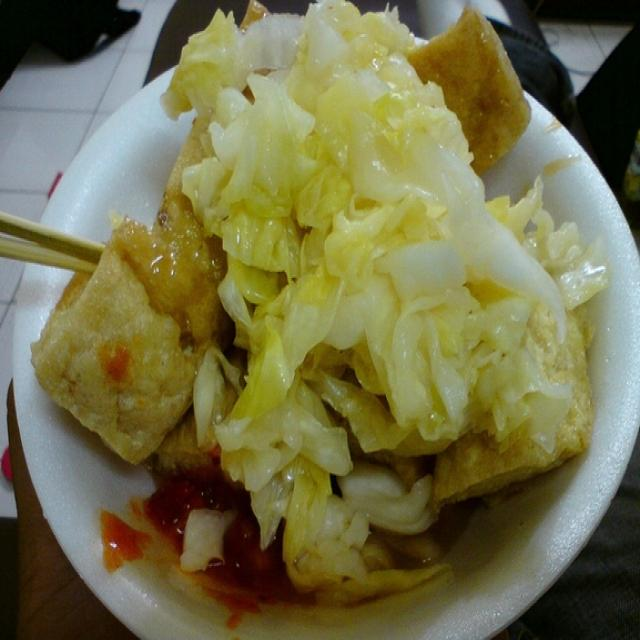豆腐料理: (11, 11, 626, 628)
